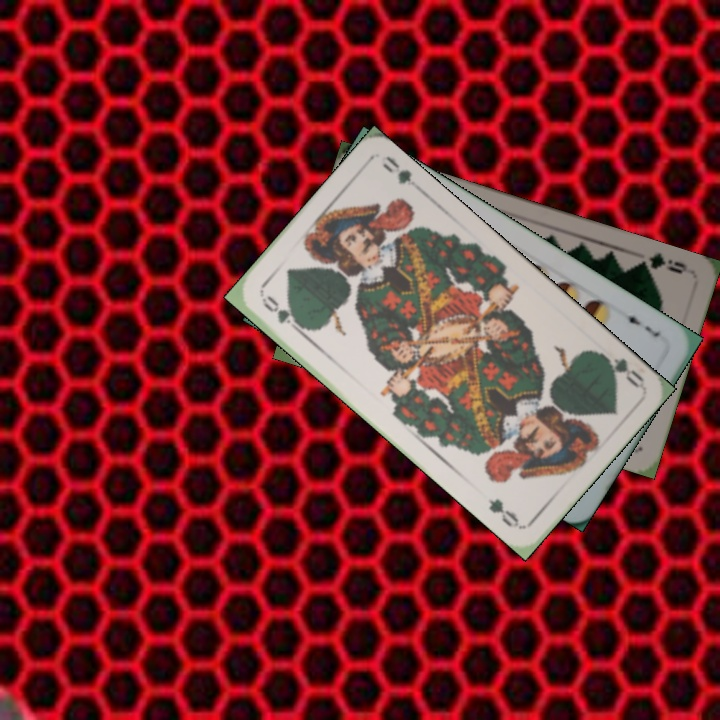E7: (619, 307, 663, 340)
G9: (632, 248, 692, 276)
GO: (257, 291, 308, 337), (594, 348, 647, 391)
